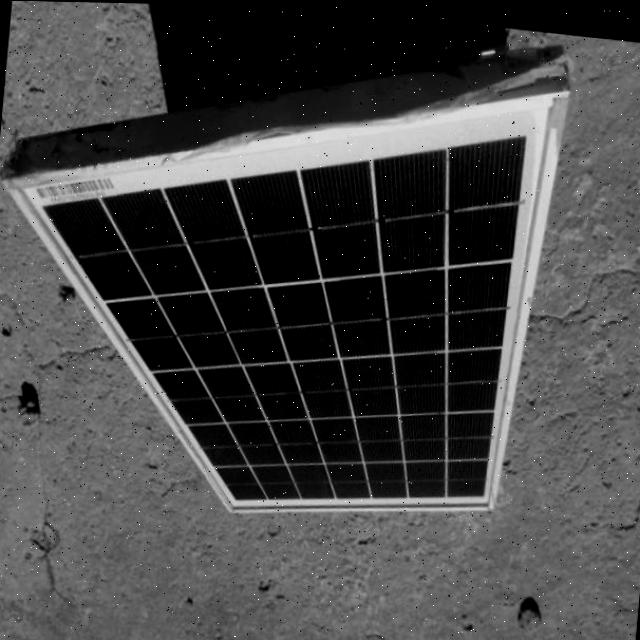Normal Solar Panel: (0, 26, 566, 542)
